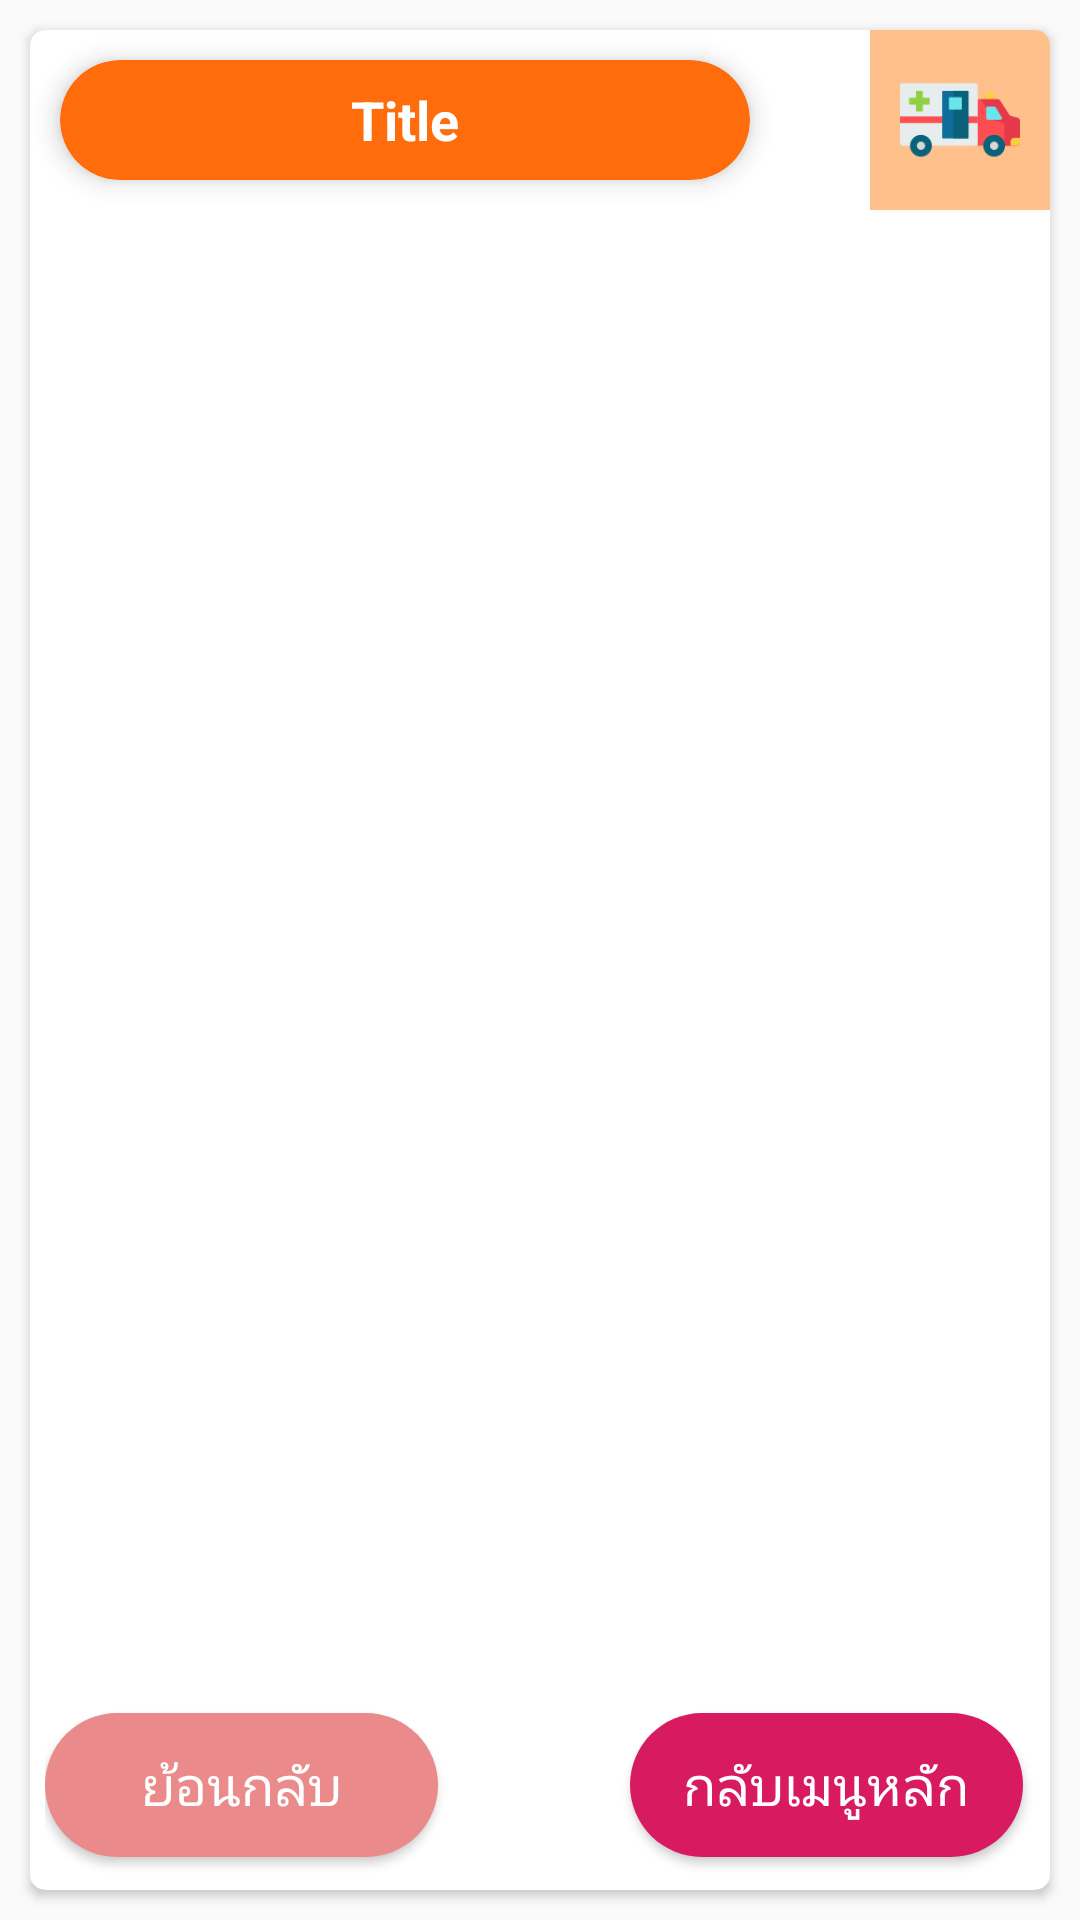

Where icons sit on this 1080 x 1920 app screen, as (x1, y1, x2, y2):
ambulance: (870, 30, 1050, 210)
